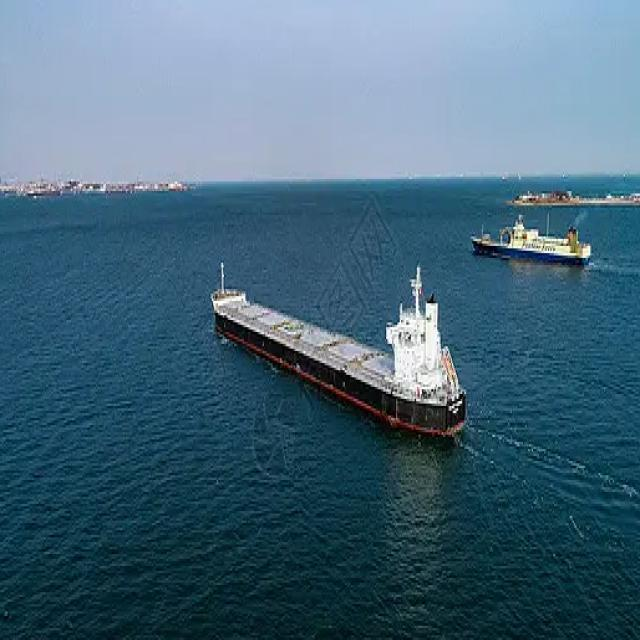cargoship: (207, 238, 468, 448)
fishing boat: (468, 198, 595, 266)
